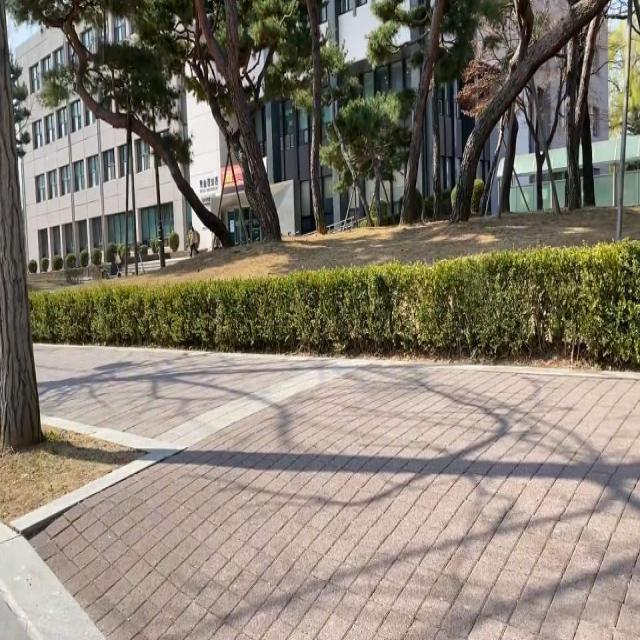sidewalk: (28, 344, 640, 637)
